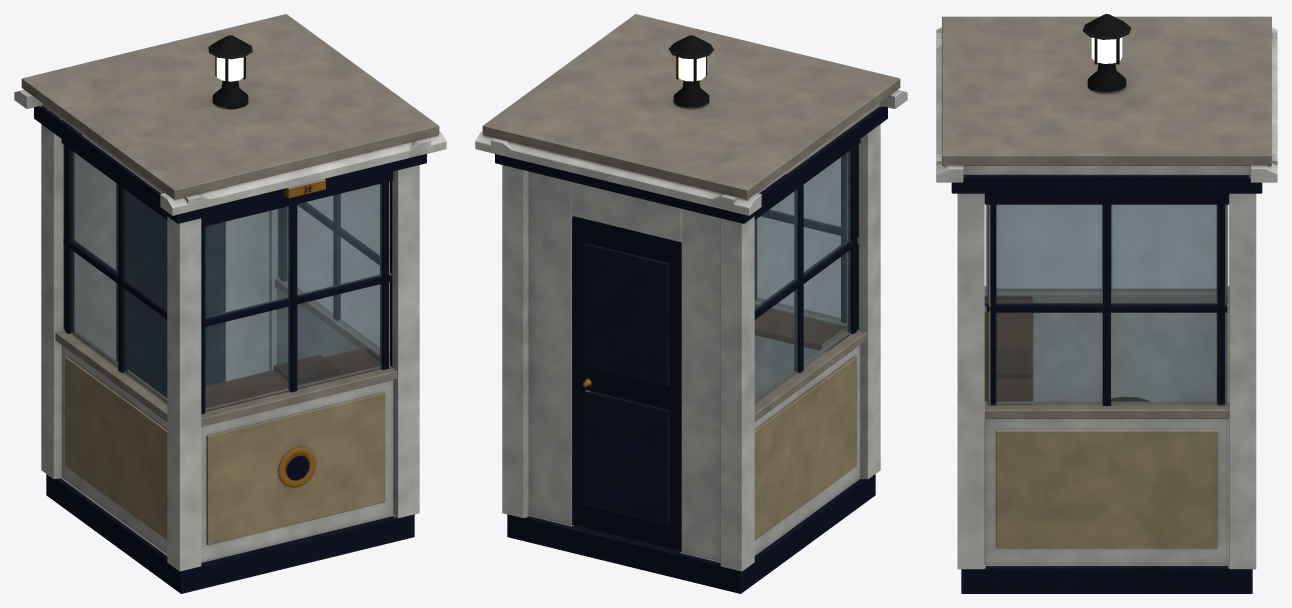
File: guard_booth.glb
The picture shows the model from 3 angles, left to right: view 1: azimuth 30°, elevation 25°; view 2: azimuth 150°, elevation 25°; view 3: azimuth 270°, elevation 25°; orthographic projection. The views are drawn at different scales.
Visible parts, largest first — view 1: guard_booth; view 2: guard_booth; view 3: guard_booth.
Boxes of the visible parts, box(x1,y1,x2,y2) form: guard_booth: box(14, 14, 446, 593); guard_booth: box(475, 14, 907, 593); guard_booth: box(936, 14, 1277, 593).
Size of the model in its own units: 1.76 by 2.94 by 1.76.
2 materials, 2 textured.
